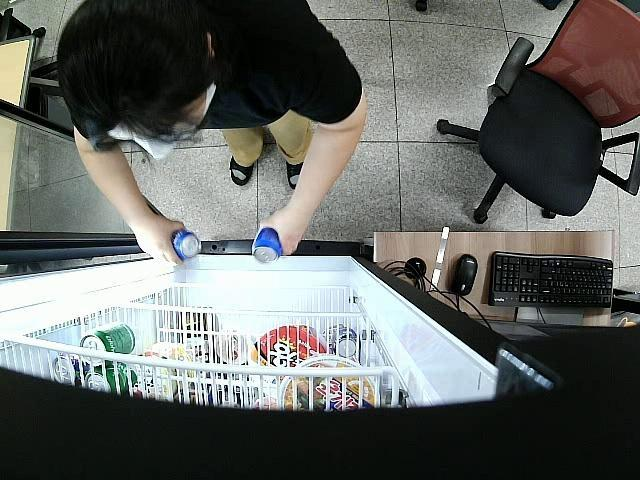13_pocariSweat: (250, 225, 282, 262), (172, 229, 198, 260)
